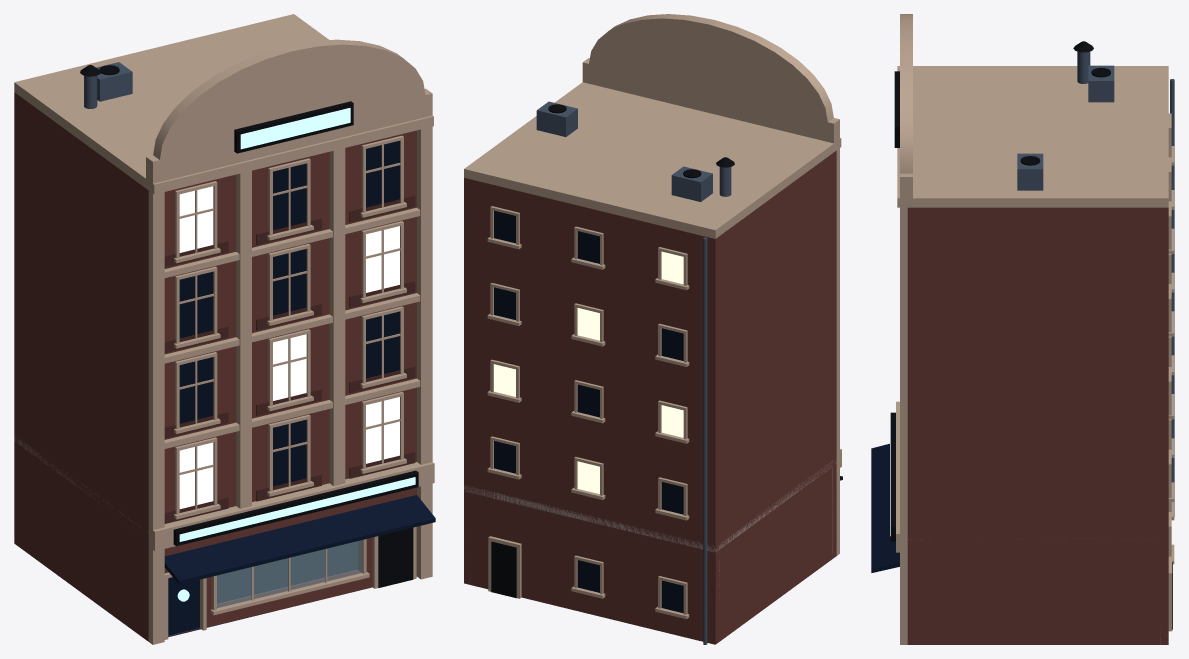
File: row_arch.glb
3 renders of one model, left to right at view 1: azimuth 30°, elevation 25°; view 2: azimuth 150°, elevation 25°; view 3: azimuth 270°, elevation 25°, orthographic. The views are drawn at different scales.
Visible parts, largest first — view 1: row_arch, door_shop_leaf; view 2: row_arch; view 3: row_arch.
Boxes of the visible parts, x1=… form: row_arch: x1=14, y1=14, x2=435, y2=644; door_shop_leaf: x1=168, y1=577, x2=199, y2=635; row_arch: x1=464, y1=14, x2=842, y2=644; row_arch: x1=871, y1=14, x2=1174, y2=644.
Size of the model in its own units: 12 by 22.93 by 11.64.
